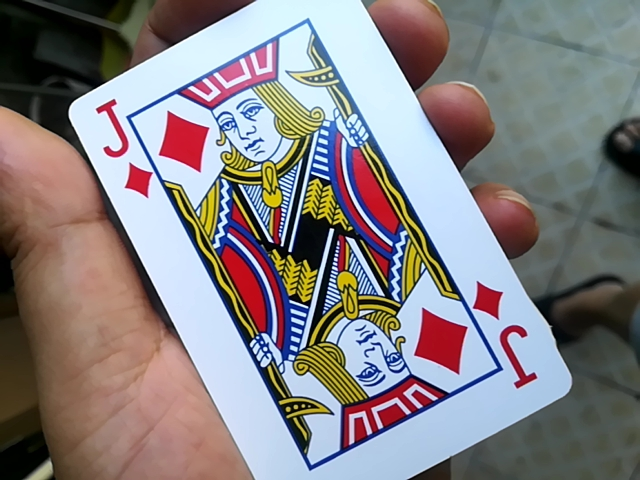fk j: (60, 7, 567, 480)
